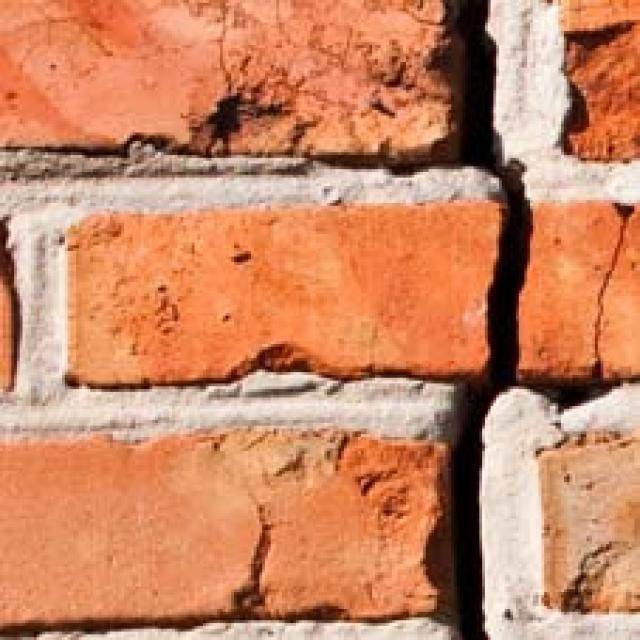Crack: (375, 0, 637, 637)
